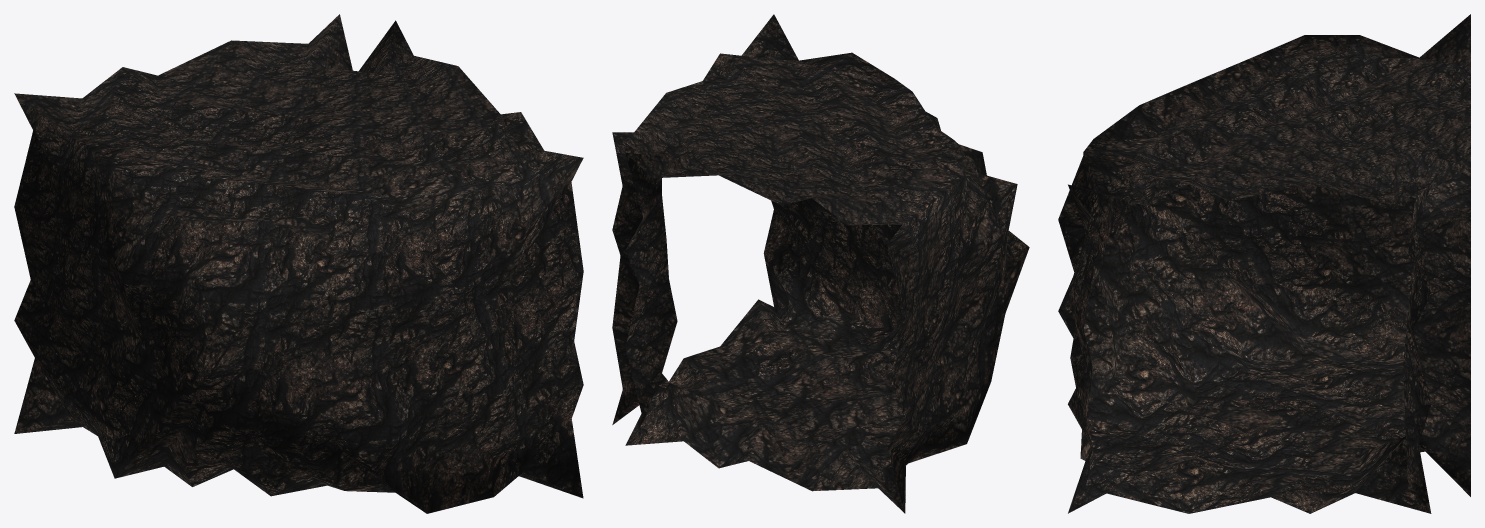
Rendered from Level Piece - Corner.FBX.
3 renders of one model, left to right at view 1: azimuth 30°, elevation 25°; view 2: azimuth 150°, elevation 25°; view 3: azimuth 270°, elevation 25°, orthographic. The views are drawn at different scales.
Visible parts, largest first — view 1: Corner001; view 2: Corner001; view 3: Corner001.
Part boxes in pixels (left/top/right/bottom): Corner001: left=14, top=14, right=583, bottom=513; Corner001: left=612, top=14, right=1029, bottom=513; Corner001: left=1058, top=14, right=1470, bottom=513.
Size of the model in its own units: 91.97 by 82.16 by 93.24.
Materials: 1 (1 with a texture image).
